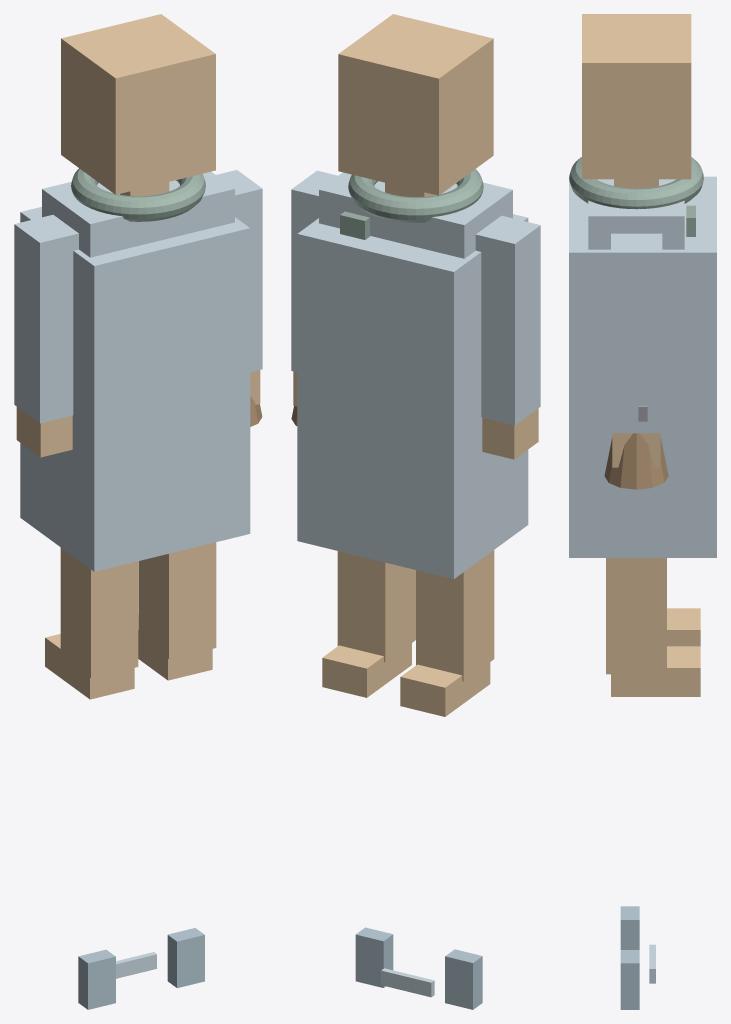
Rendered from galatea.glb.
The picture shows the model from 3 angles, left to right: view 1: azimuth 30°, elevation 25°; view 2: azimuth 150°, elevation 25°; view 3: azimuth 270°, elevation 25°; orthographic projection.
Visible parts, largest first — view 1: outfit_tunic_0, head, arm_L_upper, leg_L_shin, leg_R_shin, torso, outfit_scarf_0, arm_R_upper, leg_L_foot, outfit_sandals_0, outfit_sandals_1, arm_L_hand (+2 smaller); view 2: outfit_tunic_0, head, arm_L_upper, leg_L_shin, leg_R_shin, torso, outfit_scarf_0, leg_L_foot, leg_R_foot, arm_R_upper, outfit_sandals_0, arm_L_hand (+3 smaller); view 3: outfit_tunic_0, head, arm_R_upper, leg_R_shin, torso, outfit_scarf_0, leg_R_foot, prop, leg_L_foot, outfit_sandals_1, outfit_sandals_0, arm_R_hand (+1 smaller).
Boxes of the visible parts, <box> form: outfit_tunic_0: <box>20,207,250,571</box>; head: <box>61,14,215,194</box>; arm_L_upper: <box>14,214,78,423</box>; leg_L_shin: <box>60,547,138,678</box>; leg_R_shin: <box>138,542,216,659</box>; torso: <box>42,171,234,257</box>; outfit_scarf_0: <box>71,168,205,221</box>; arm_R_upper: <box>216,170,262,371</box>; leg_L_foot: <box>45,634,134,699</box>; outfit_sandals_0: <box>78,949,115,1009</box>; outfit_sandals_1: <box>167,928,204,988</box>; arm_L_hand: <box>16,407,72,457</box>; outfit_tunic_0: <box>297,214,528,579</box>; head: <box>338,14,493,195</box>; arm_L_upper: <box>475,215,540,425</box>; leg_L_shin: <box>416,550,494,681</box>; leg_R_shin: <box>337,551,415,662</box>; torso: <box>319,172,512,258</box>; outfit_scarf_0: <box>348,169,483,222</box>; leg_L_foot: <box>400,662,490,716</box>; leg_R_foot: <box>322,643,411,697</box>; arm_R_upper: <box>291,170,337,372</box>; outfit_sandals_0: <box>445,949,482,1009</box>; arm_L_hand: <box>482,408,538,459</box>; outfit_tunic_0: <box>569,176,716,557</box>; head: <box>582,14,691,179</box>; arm_R_upper: <box>611,233,662,433</box>; leg_R_shin: <box>606,558,666,674</box>; torso: <box>588,179,684,249</box>; outfit_scarf_0: <box>569,157,703,209</box>; leg_R_foot: <box>611,646,700,696</box>; prop: <box>604,405,668,489</box>; leg_L_foot: <box>667,608,700,646</box>; outfit_sandals_1: <box>620,950,639,1009</box>; outfit_sandals_0: <box>620,906,639,949</box>; arm_R_hand: <box>612,433,660,467</box>.
Size of the model in its own units: 0.83 by 3.24 by 0.46.
